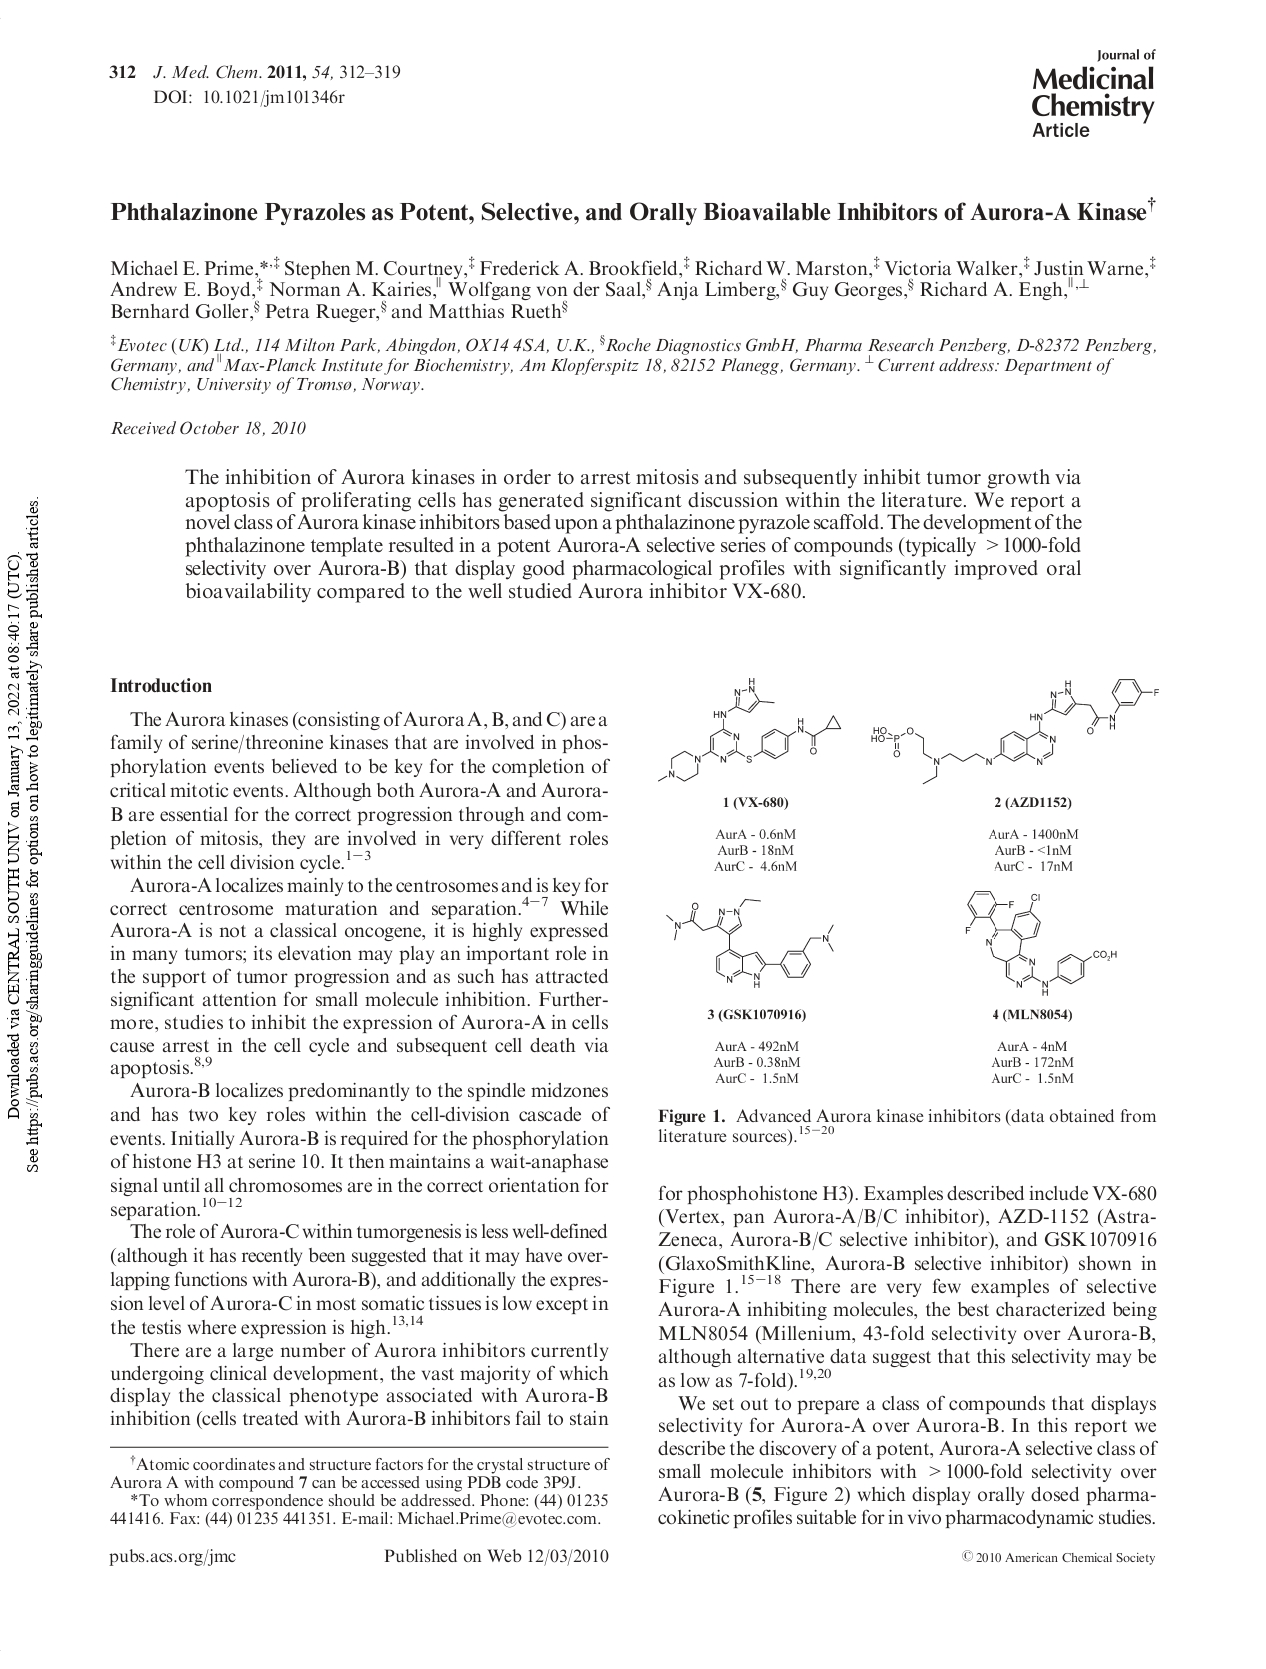exist_molecular: (867, 677, 1161, 786), (654, 674, 840, 786), (961, 888, 1121, 997), (662, 892, 836, 989)
